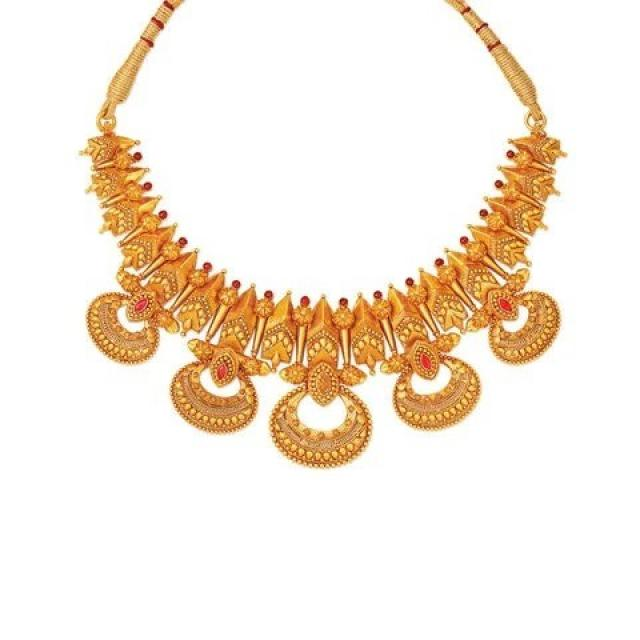missing gem: (317, 371, 329, 394)
